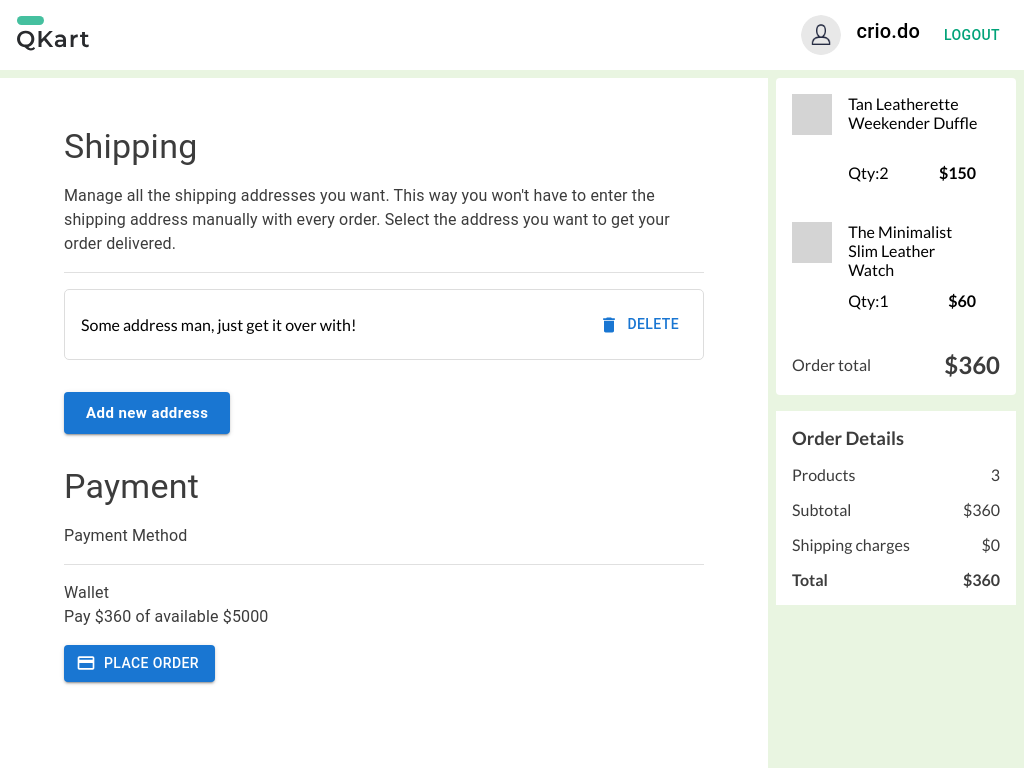
it: Checkout Page › allows to delete address
Click the button "DELETE".
click(641, 325)  # box [596,306,687,343]
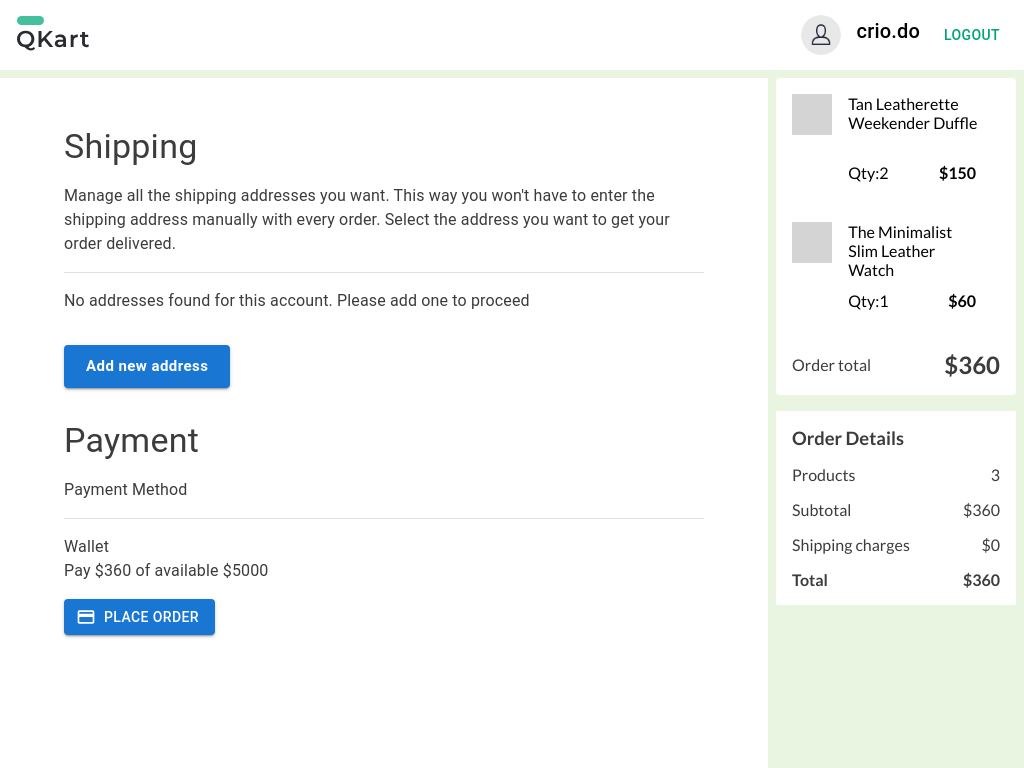
expect the text "Some address" is gone: met
